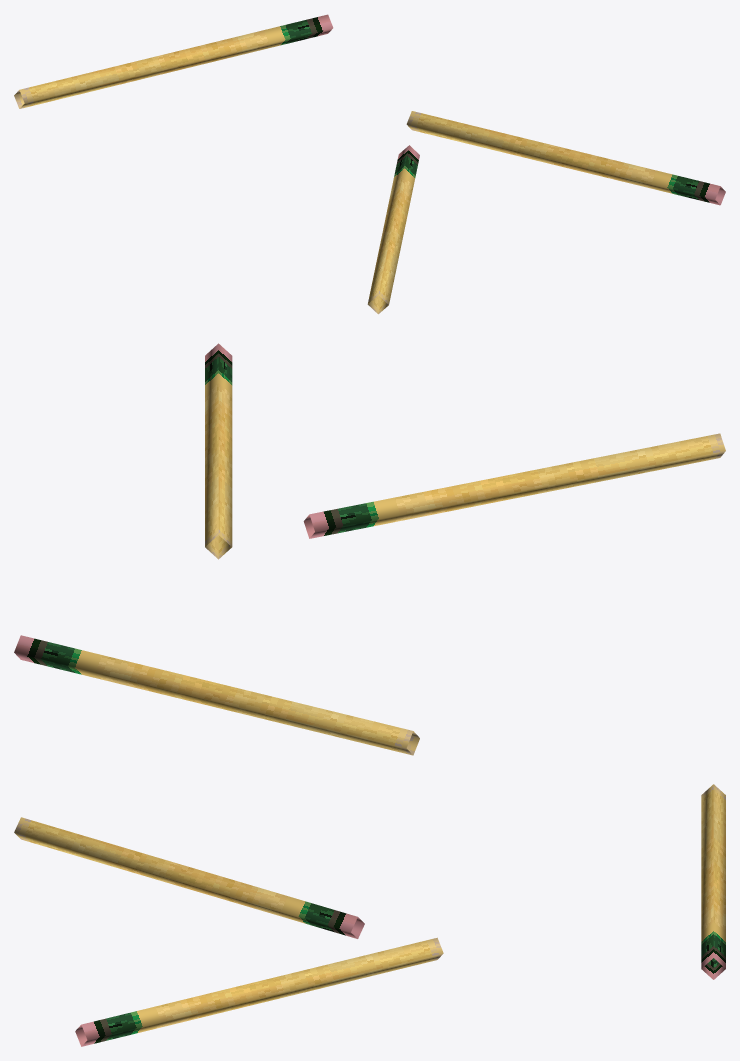
File: pencil_group.fbx
3 views of the same model, one above another, from view 1: azimuth 30°, elevation 25°; view 2: azimuth 150°, elevation 25°; view 3: azimuth 270°, elevation 25° (orthographic). The views are drawn at different scales.
Visible parts, largest first — view 1: mesh_0; view 2: mesh_0; view 3: mesh_0.
Part boxes in pixels (bbox=[...]): mesh_0: bbox=[14, 14, 725, 314]; mesh_0: bbox=[14, 343, 725, 755]; mesh_0: bbox=[14, 784, 725, 1046].
Size of the model in its own units: 22.56 by 0.96 by 27.7.
1 material, 1 textured.
